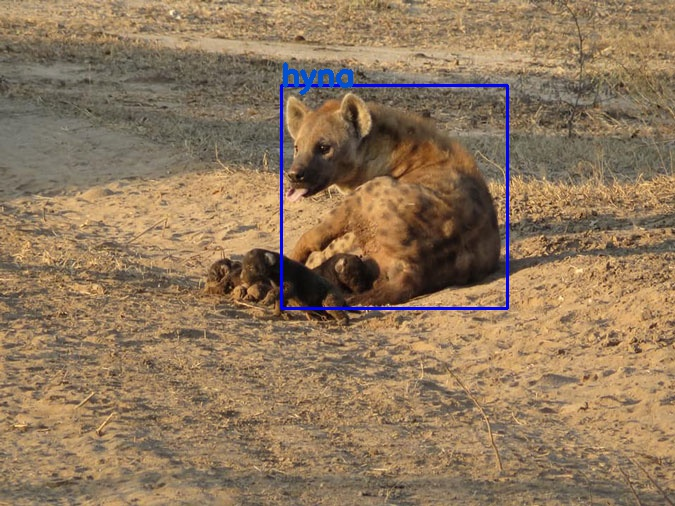hyna: (281, 85, 507, 307)
